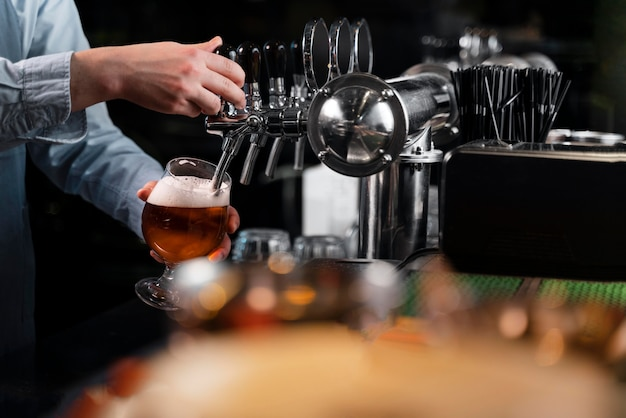alcohol: (134, 155, 231, 310)
